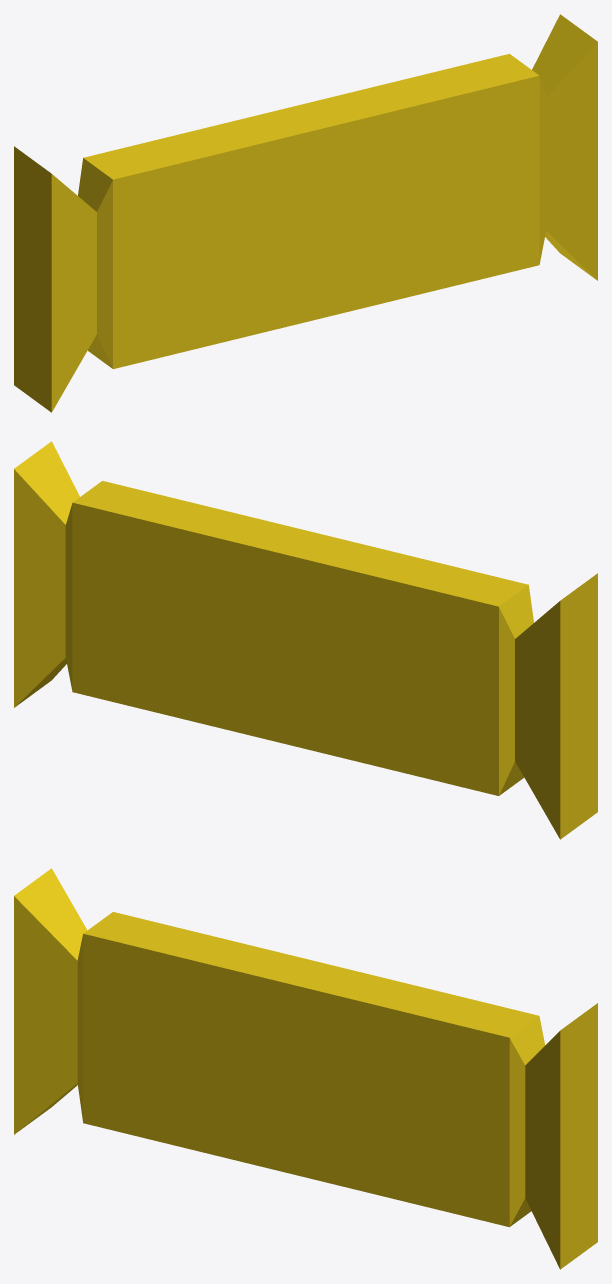
File: candybar.fbx
3 renders of one model, top to bottom at view 1: azimuth 30°, elevation 25°; view 2: azimuth 150°, elevation 25°; view 3: azimuth 330°, elevation 25°, orthographic.
Visible parts, largest first — view 1: Cube; view 2: Cube; view 3: Cube.
Part boxes in pixels (x1=…): Cube: x1=14, y1=14, x2=597, y2=412; Cube: x1=14, y1=441, x2=597, y2=839; Cube: x1=14, y1=868, x2=597, y2=1269.
Size of the model in its own units: 143 by 60.14 by 17.12.
